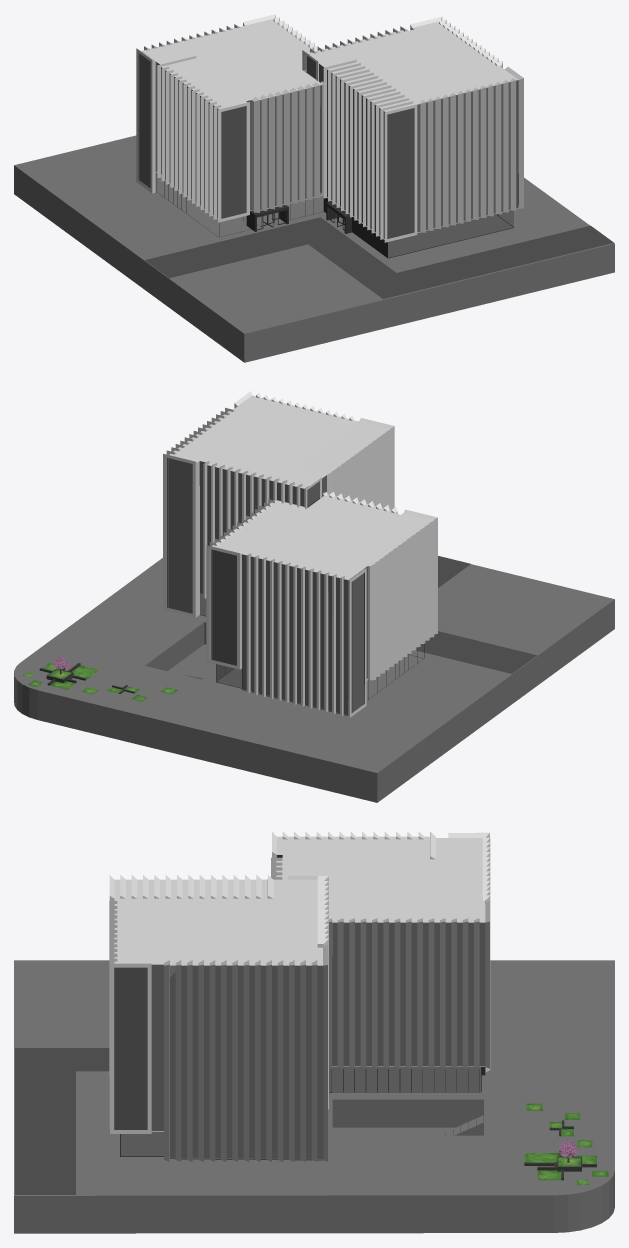
The model's file is block.glb.
The picture shows the model from 3 angles, top to bottom: view 1: azimuth 30°, elevation 25°; view 2: azimuth 150°, elevation 25°; view 3: azimuth 270°, elevation 25°; orthographic projection. The views are drawn at different scales.
Visible parts, largest first — view 1: 地面, 条, 窗帘, 玻璃, 天花板, 路, 门框; view 2: 地面, 条, 窗帘, 玻璃, 天花板, 路, 麦当劳, 草地; view 3: 地面, 条, 玻璃, 窗帘, 天花板, 路, 麦当劳, 草地, 门框, 石.
Part boxes in pixels (x1,y1,x2,y2): 地面: (14,135,614,362); 条: (136,14,523,242); 窗帘: (138,52,518,238); 玻璃: (138,53,518,257); 天花板: (142,18,518,111); 路: (145,217,613,298); 门框: (157,181,513,258); 地面: (14,558,614,802); 条: (163,391,437,717); 窗帘: (167,458,367,714); 玻璃: (166,458,367,715); 天花板: (169,395,424,579); 路: (416,556,536,673); 麦当劳: (145,622,222,679); 草地: (22,663,177,701); 地面: (14,960,614,1233); 条: (109,831,490,1161); 玻璃: (114,923,484,1159); 窗帘: (114,901,485,1158); 天花板: (114,838,485,965); 路: (15,1048,109,1194); 麦当劳: (332,1099,483,1135); 草地: (524,1103,608,1184); 门框: (120,1067,485,1160); 石: (524,1120,596,1180).
Size of what is drawn, in the model's own units: 51.25 by 23.88 by 55.22.
Materials: 10 (3 with a texture image).
